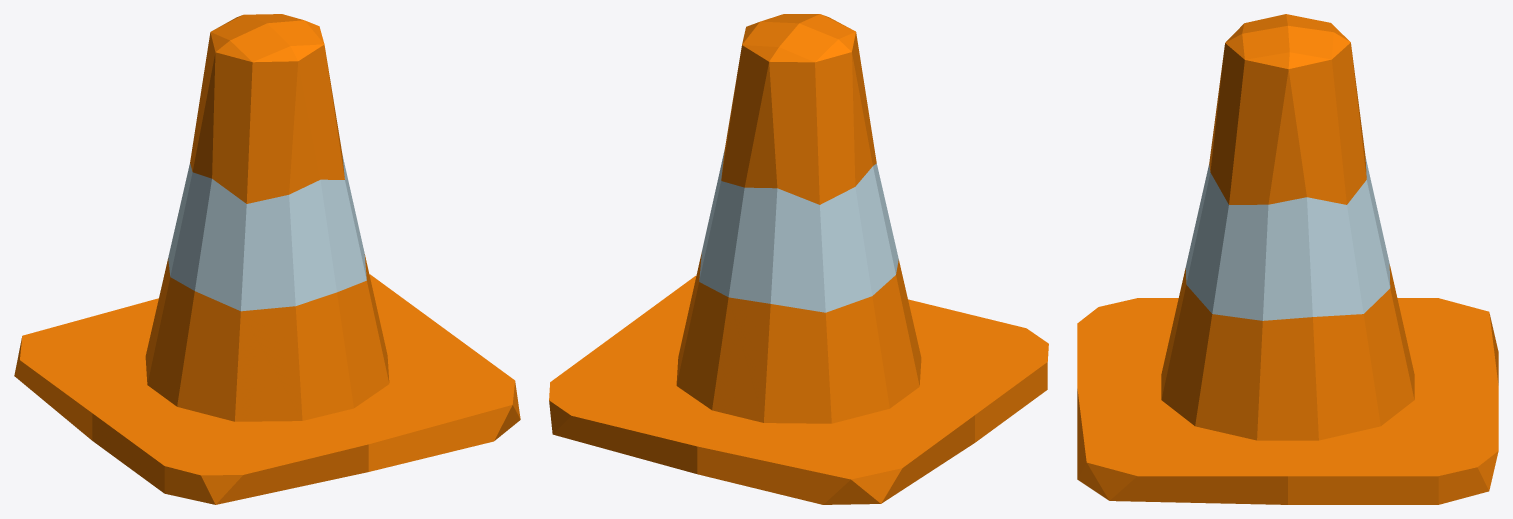
File: hat_trafficcone.glb
3 views of the same model, side by side, from view 1: azimuth 30°, elevation 25°; view 2: azimuth 150°, elevation 25°; view 3: azimuth 270°, elevation 25° (orthographic). The views are drawn at different scales.
Visible parts, largest first — view 1: Lp_TrafficCone01; view 2: Lp_TrafficCone01; view 3: Lp_TrafficCone01.
Boxes of the visible parts, x1,y1,x2,y2 form: Lp_TrafficCone01: (14, 14, 520, 504); Lp_TrafficCone01: (549, 14, 1048, 504); Lp_TrafficCone01: (1077, 14, 1498, 504).
Size of the model in its own units: 0.3975 by 0.4059 by 0.3975.
Materials: 1 (1 with a texture image).
